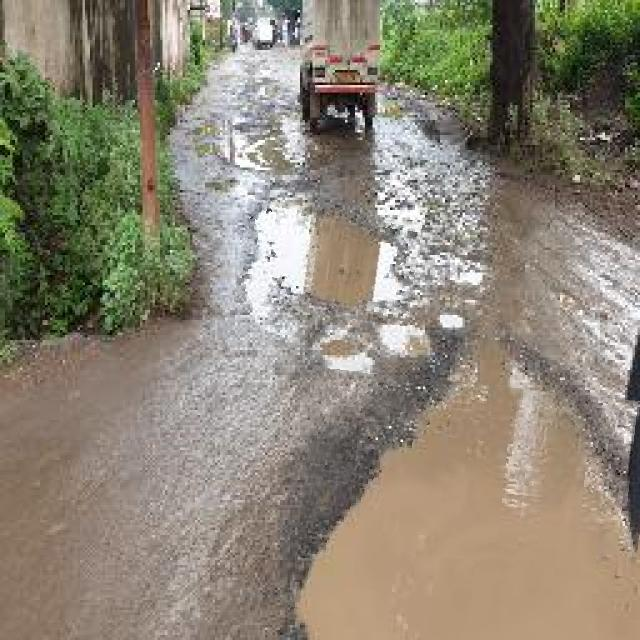puddle: (296, 376, 640, 640), (238, 205, 420, 322)
